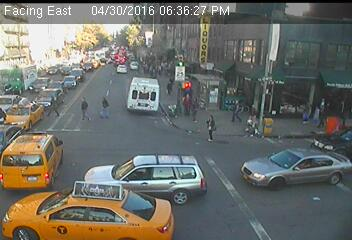neg: (232, 159, 254, 187), (243, 125, 264, 154), (30, 162, 51, 190), (269, 91, 290, 119), (35, 127, 52, 151), (24, 58, 41, 81), (154, 106, 170, 128), (239, 40, 255, 62), (284, 54, 300, 74), (11, 104, 26, 124), (72, 60, 86, 80), (258, 105, 271, 122), (207, 78, 219, 95), (50, 73, 59, 85)
pos: (201, 115, 221, 142), (226, 96, 246, 122), (75, 95, 94, 120), (44, 95, 62, 119), (178, 92, 194, 114), (97, 97, 112, 117), (164, 79, 177, 96)
